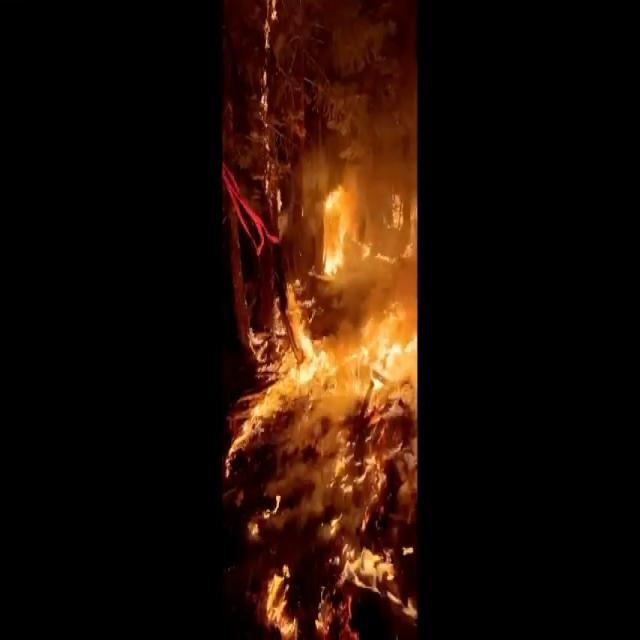Fire: (223, 170, 417, 635)
